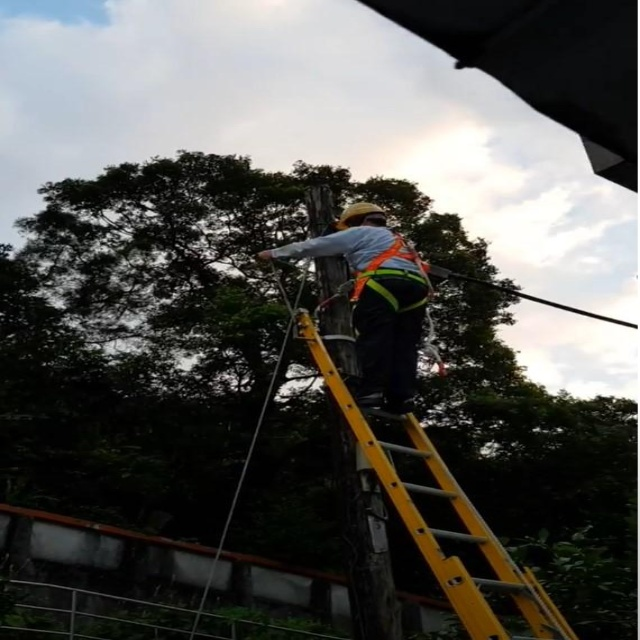Arnes_seguridad: (346, 227, 440, 317)
